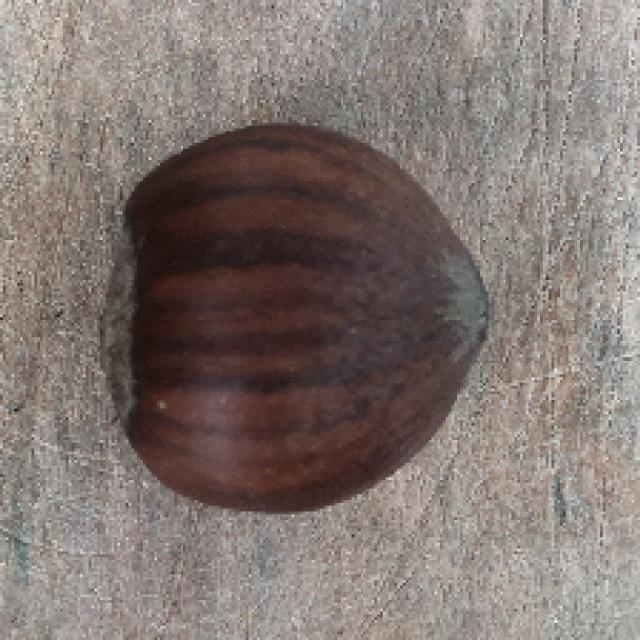damagedHazelnut: (88, 122, 501, 515)
